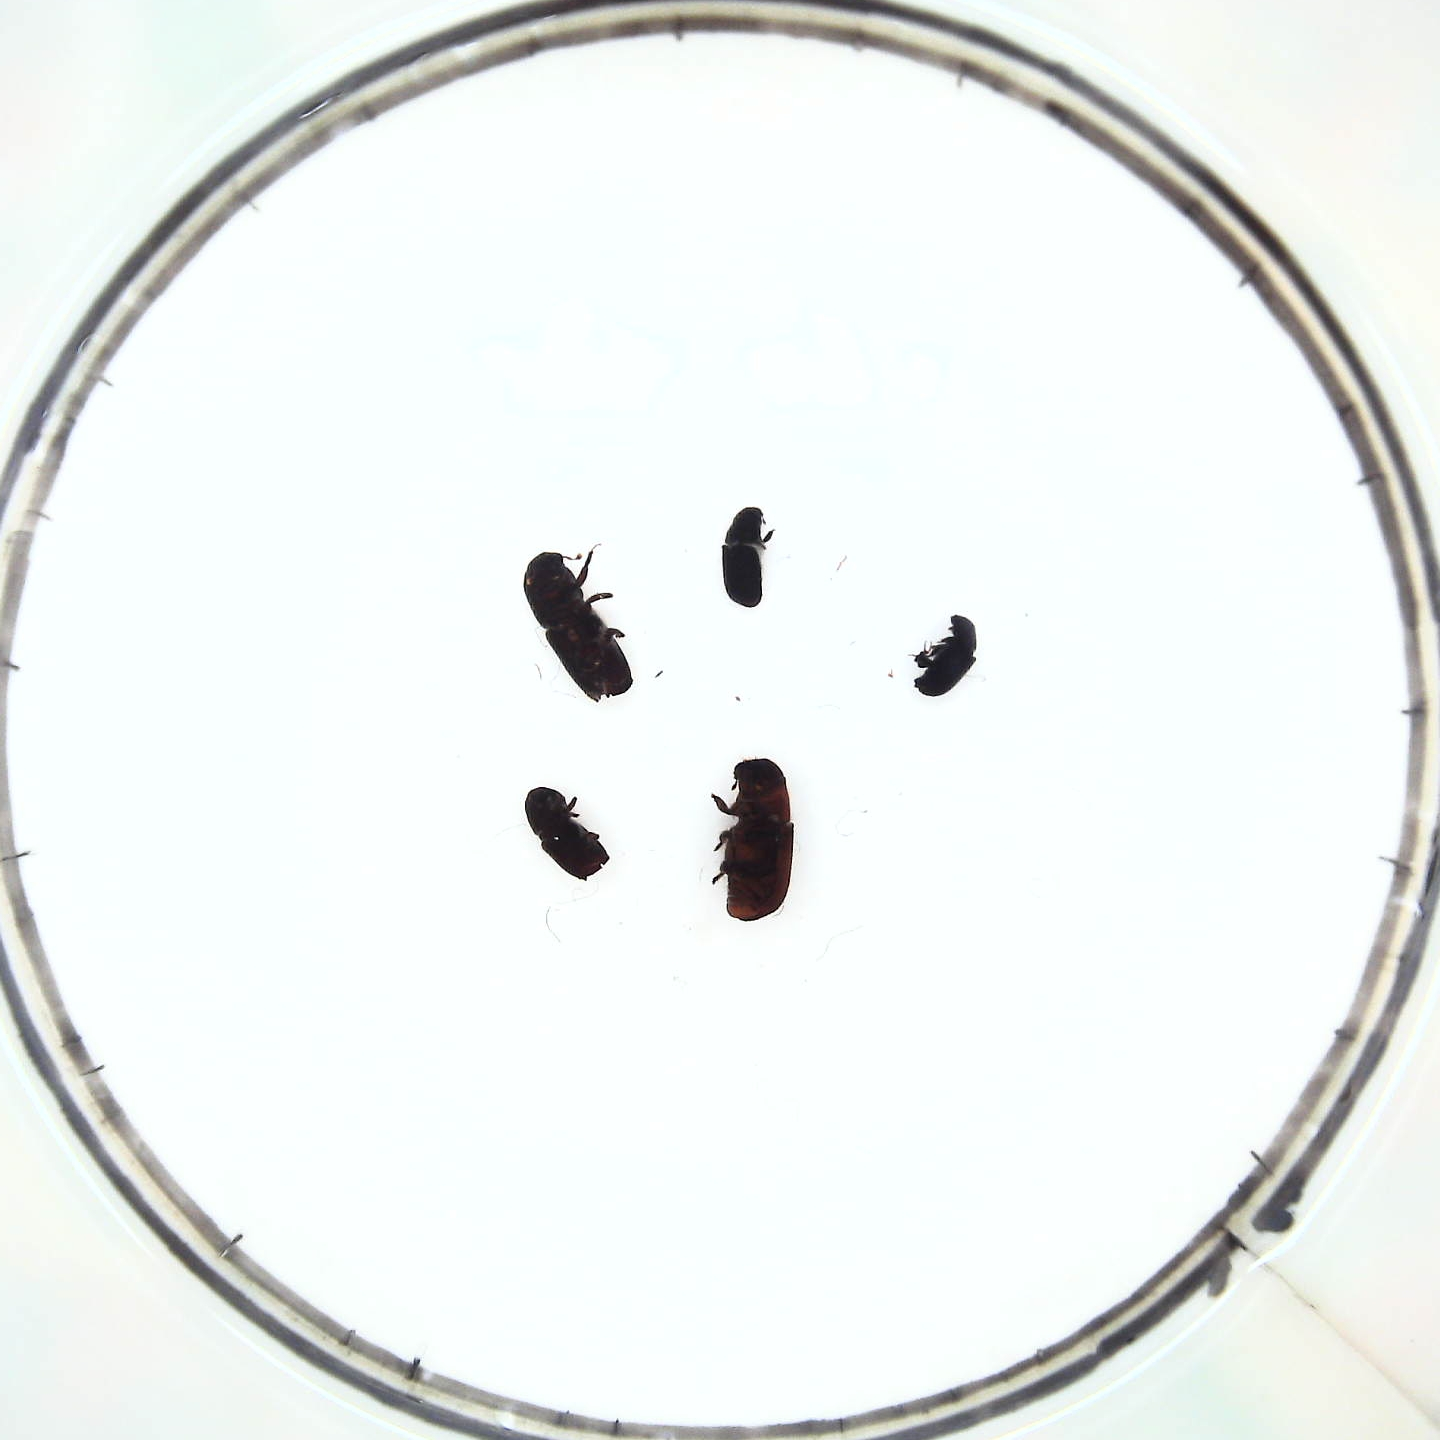Boerner: (520, 549, 636, 698)
Leconte: (727, 756, 796, 918)
Linnaeus: (521, 786, 613, 882)
armandi: (724, 500, 771, 603)
coleoptera: (913, 616, 982, 698)
